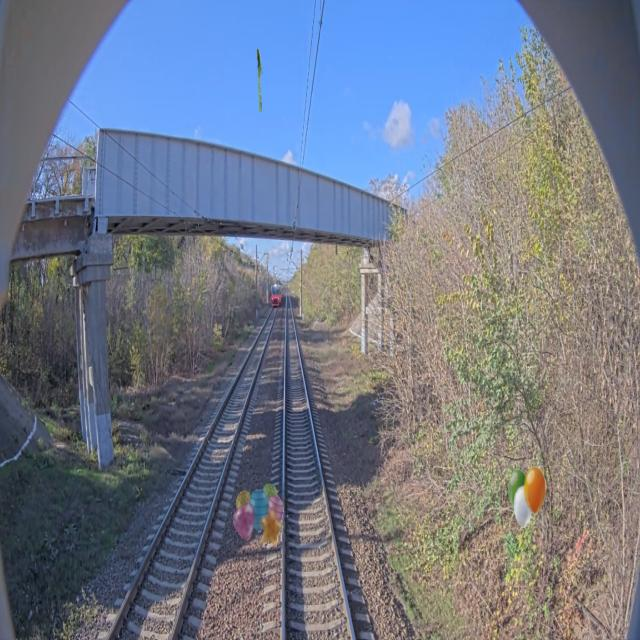balloon: (233, 483, 285, 547), (508, 466, 546, 530)
floating object: (256, 48, 262, 112)
